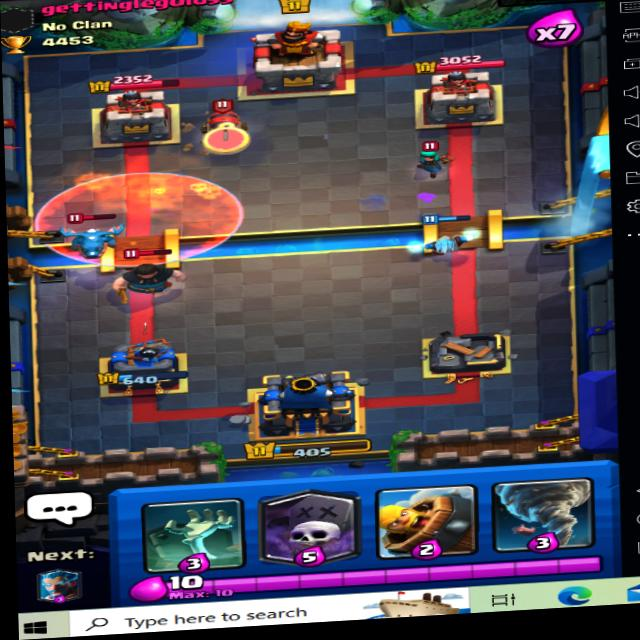Cannoncart: (195, 94, 253, 147)
Edragon: (55, 205, 124, 262)
Rascalboy: (111, 253, 186, 294)
Rascalgirl: (405, 140, 447, 176)
